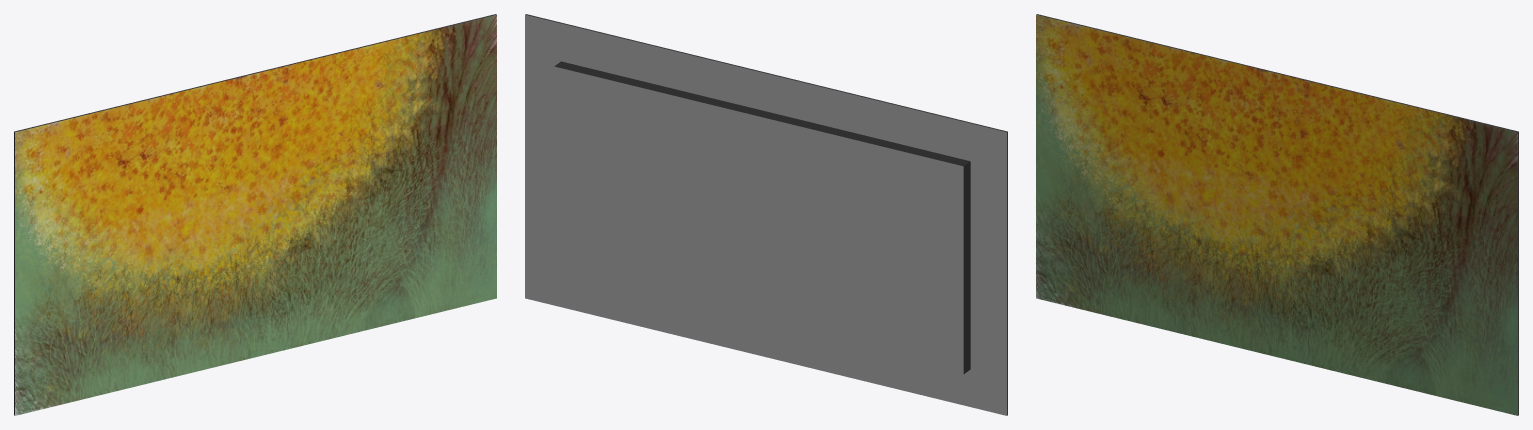
The model's file is hz050_moyen_dibond.glb.
The picture shows the model from 3 angles, left to right: view 1: azimuth 30°, elevation 25°; view 2: azimuth 150°, elevation 25°; view 3: azimuth 330°, elevation 25°; orthographic projection.
Parts seen in each view (by area): view 1: hz050_moyen_dibond; view 2: hz050_moyen_dibond; view 3: hz050_moyen_dibond.
Boxes of the visible parts, x1,y1,x2,y2 form: hz050_moyen_dibond: (14, 14, 496, 415); hz050_moyen_dibond: (525, 14, 1007, 415); hz050_moyen_dibond: (1036, 14, 1518, 415).
Bounding box in the file's own units: 0.8 × 0.45 × 0.023.
4 materials, 1 textured.
